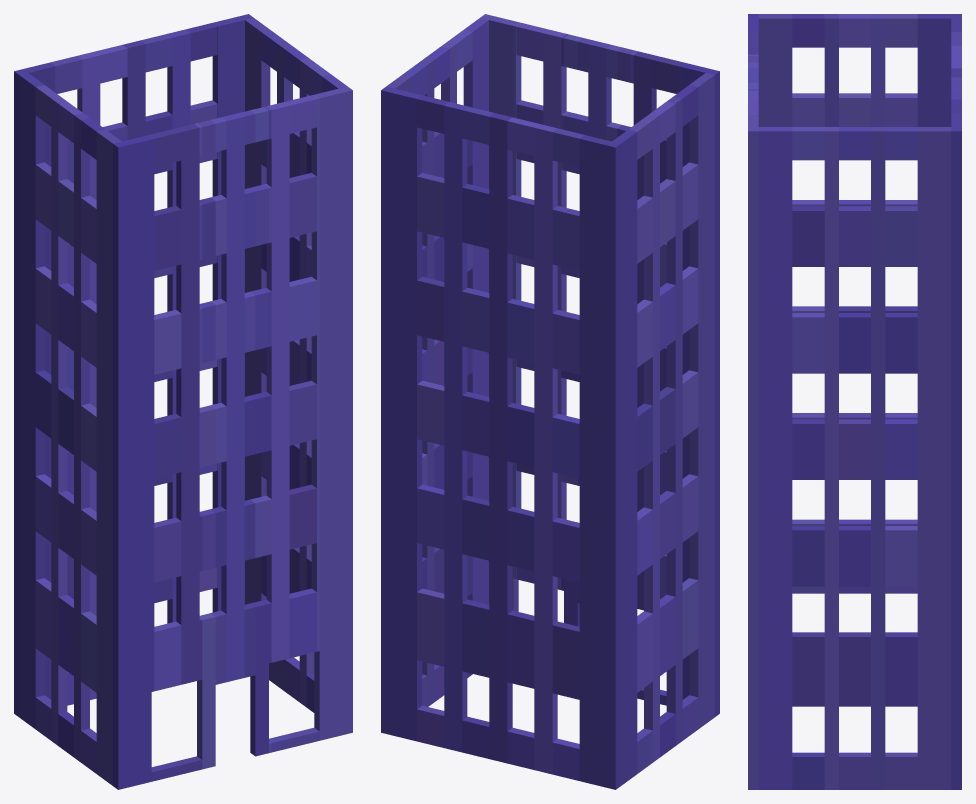
File: Apartment_Plum_Walls.glb
3 views of the same model, side by side, from view 1: azimuth 30°, elevation 25°; view 2: azimuth 150°, elevation 25°; view 3: azimuth 270°, elevation 25° (orthographic). The views are drawn at different scales.
Parts seen in each view (by area): view 1: Apartment_Plum_Walls; view 2: Apartment_Plum_Walls; view 3: Apartment_Plum_Walls.
Part boxes in pixels (x1,y1,x2,y2): Apartment_Plum_Walls: (14,14,352,789); Apartment_Plum_Walls: (381,14,719,789); Apartment_Plum_Walls: (748,14,961,789).
Size of the model in its own units: 26 by 68 by 20.
